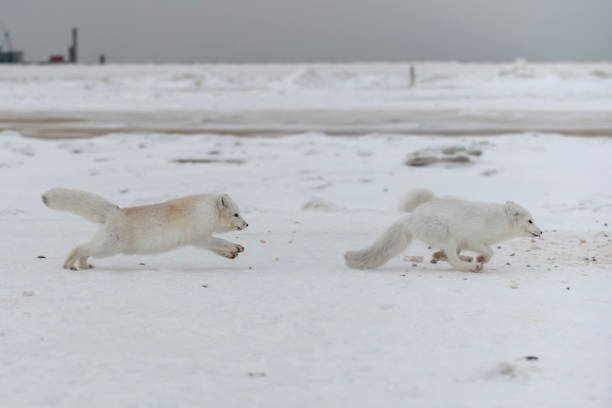arcticfox: (212, 195, 251, 245)
